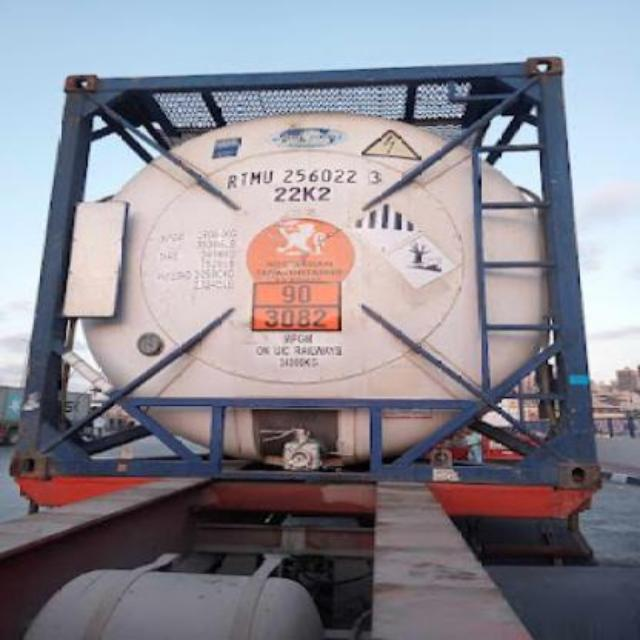0: (320, 163, 330, 184)
2: (280, 164, 294, 186), (344, 164, 358, 186), (334, 158, 344, 186)
3: (368, 166, 382, 188)
5: (294, 162, 306, 186)
6: (308, 162, 320, 188)
M: (246, 167, 262, 185)
R: (225, 170, 238, 194)
T: (236, 168, 248, 188)
U: (260, 167, 274, 183)
